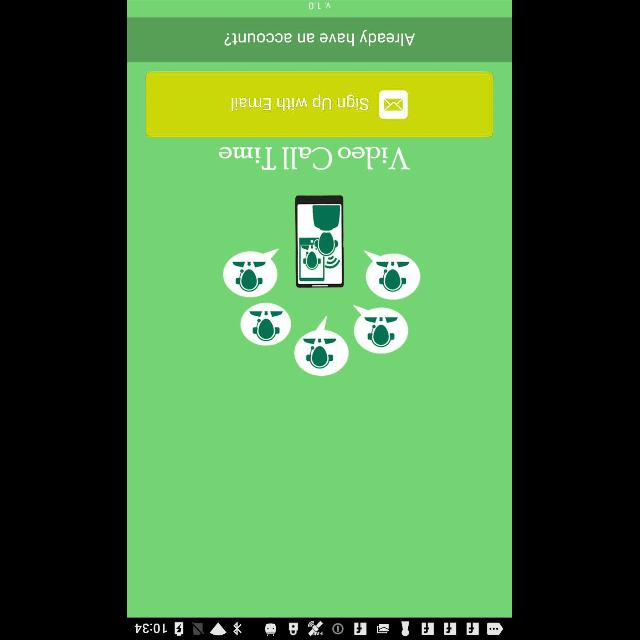image: (224, 196, 421, 377)
text: (219, 146, 411, 170), (310, 2, 332, 10)
textbutton: (146, 72, 494, 136), (128, 18, 512, 62)
uppertaskbar: (128, 617, 512, 639)
